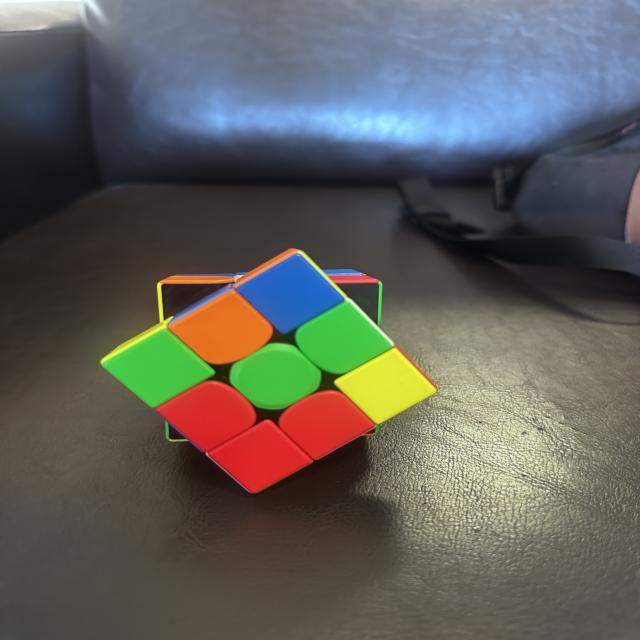sticker: (100, 320, 213, 408), (237, 252, 341, 335), (168, 287, 275, 366), (334, 347, 436, 426), (208, 419, 314, 494), (155, 381, 258, 452), (296, 301, 392, 375), (278, 390, 374, 462), (230, 344, 322, 411)
